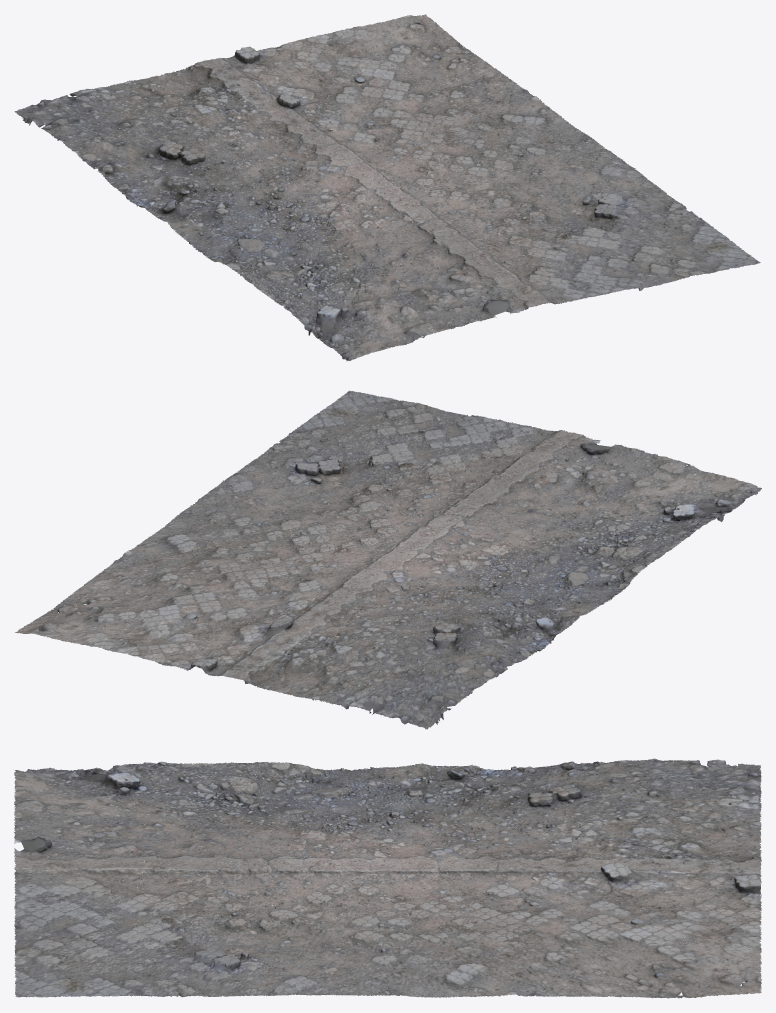
The model's file is destroyed_ground-v1.glb.
The picture shows the model from 3 angles, top to bottom: view 1: azimuth 30°, elevation 25°; view 2: azimuth 150°, elevation 25°; view 3: azimuth 270°, elevation 25°; orthographic projection. The views are drawn at different scales.
Parts seen in each view (by area): view 1: Distroyed_Ground; view 2: Distroyed_Ground; view 3: Distroyed_Ground.
Boxes of the visible parts, x1=… form: Distroyed_Ground: x1=14, y1=14, x2=760, y2=361; Distroyed_Ground: x1=15, y1=390, x2=761, y2=729; Distroyed_Ground: x1=14, y1=758, x2=761, y2=998.
Bounding box in the file's own units: 62.66 × 3.49 × 88.16.
1 material, 1 textured.
